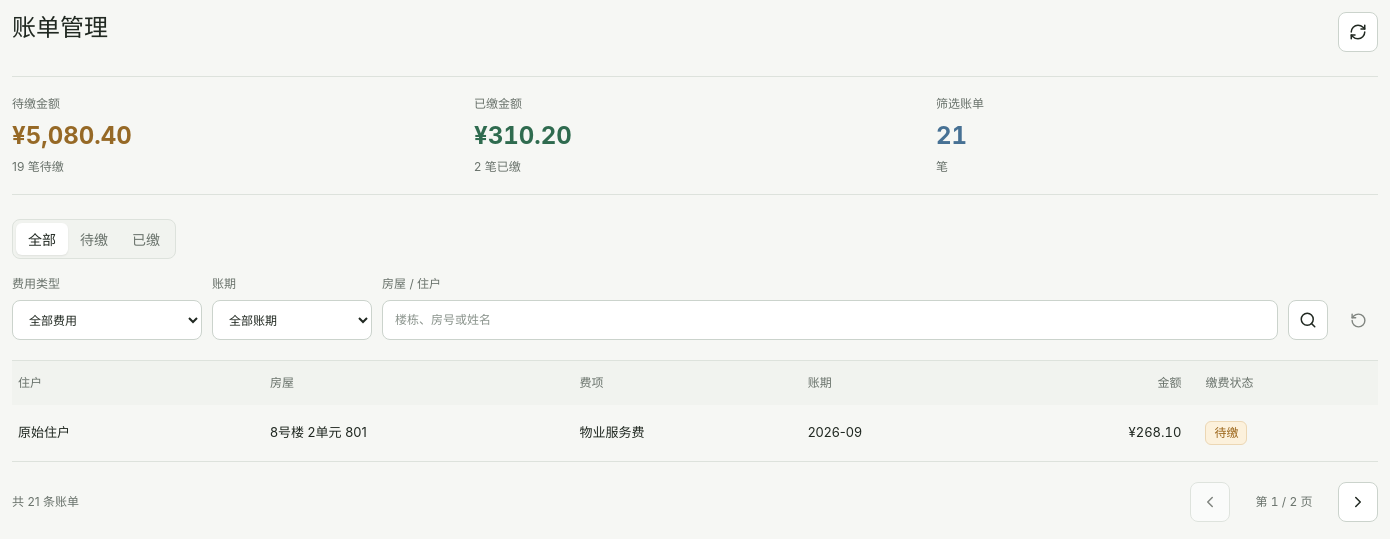
it: community billing management › resets pagination when the payment status changes
Expected: the text "原始住户" is shown, [12, 405, 258, 462]
Click the button named "下一页": (1358, 502) [1338, 482, 1378, 522]
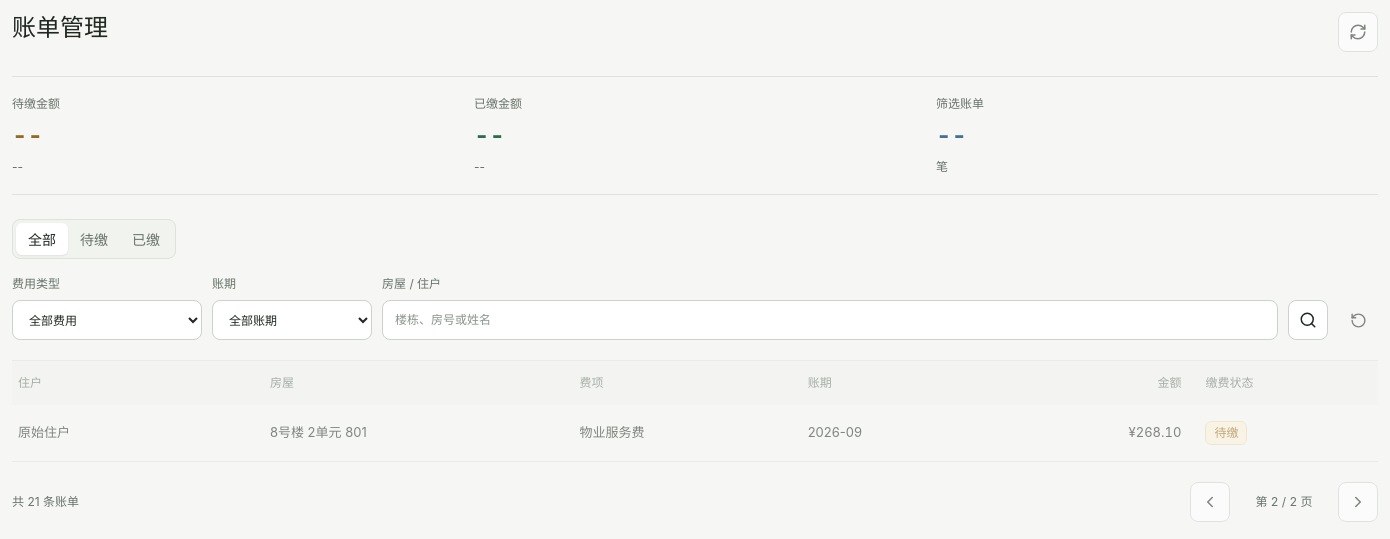
Expected: the text "第 2 / 2 页" is shown, [1256, 494, 1312, 509]
Press the mouse on the tab "已缴": (146, 239) [120, 223, 172, 255]
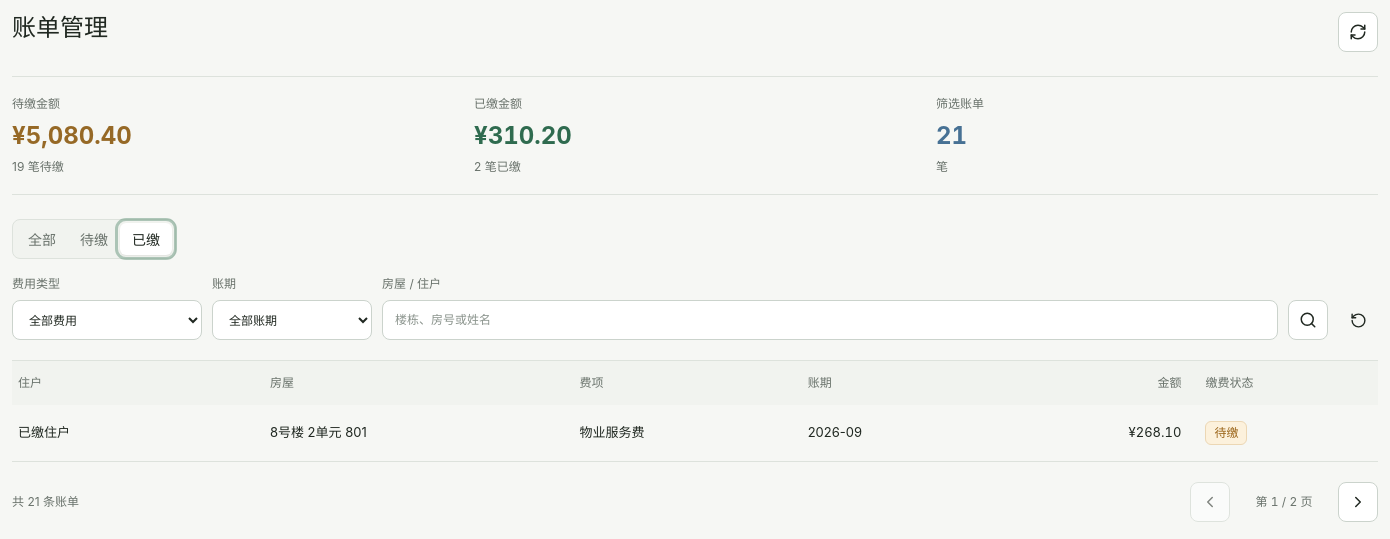
Expected: the text "已缴住户" is shown, [12, 405, 258, 462]
